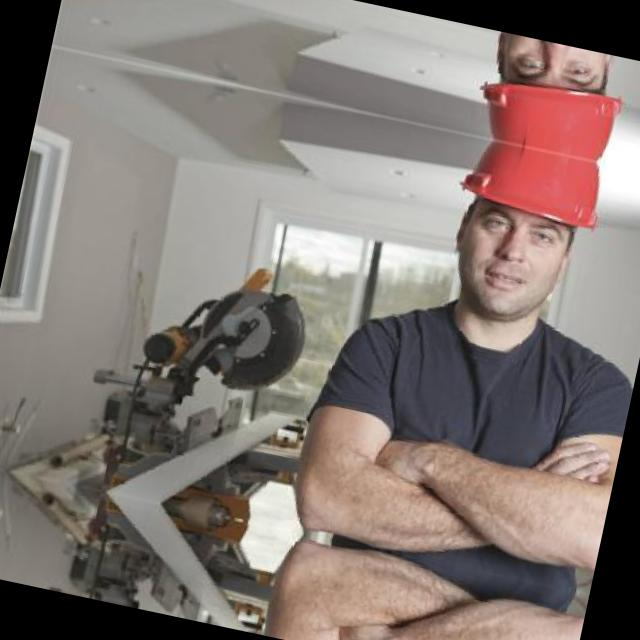helmet: (416, 129, 626, 339), (451, 26, 640, 168)
